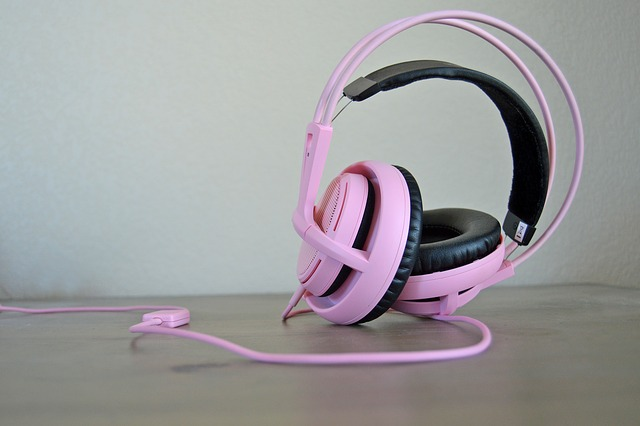headphones: (292, 11, 585, 324)
